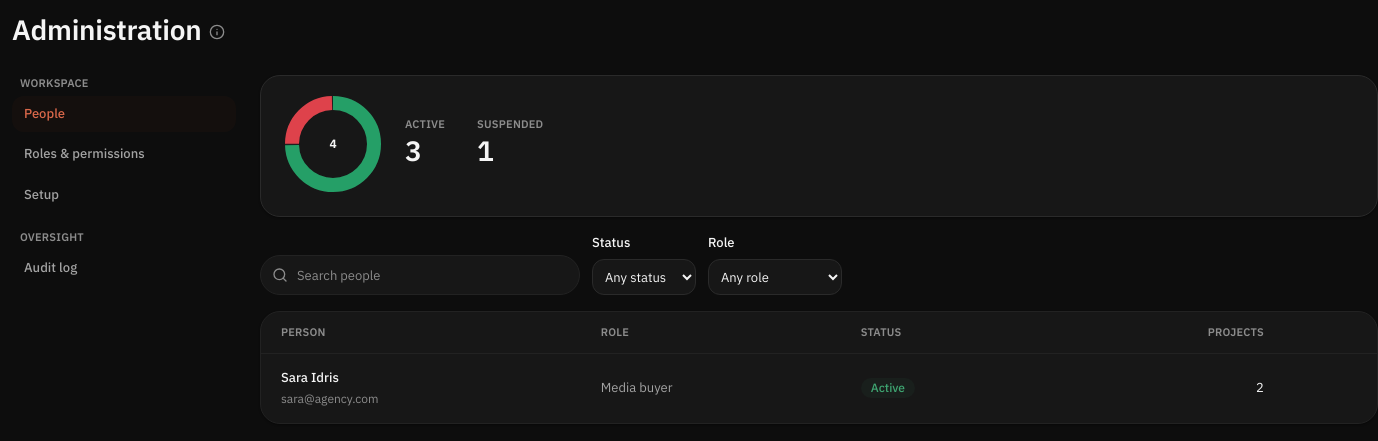
Scenario: AdministrationPage › shows the audit trail with its actor and marks security events
Click the button "Audit log": x=124, y=268 x1=12 y1=250 x2=236 y2=286
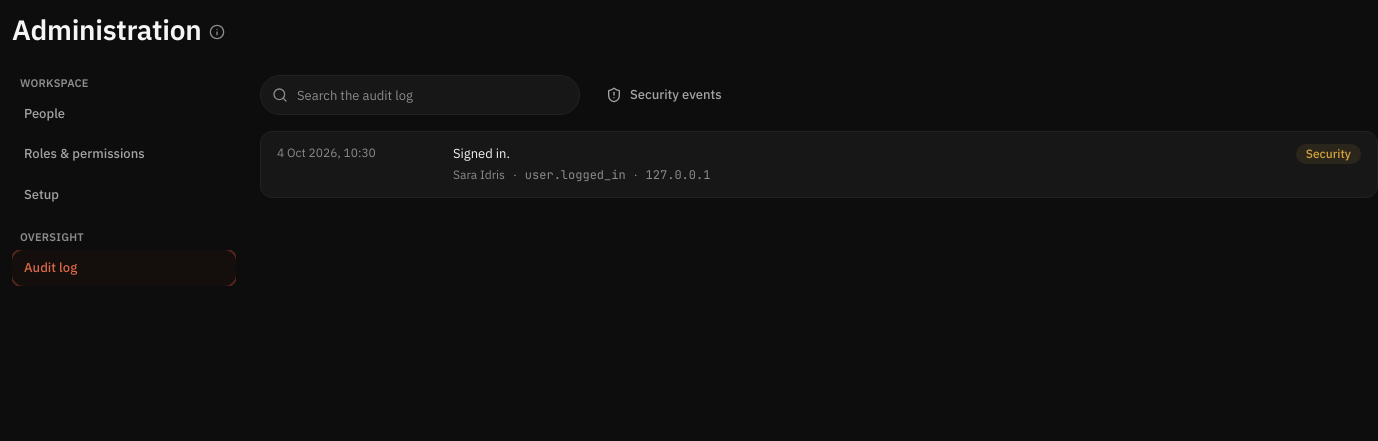
Expected: the text "Sara Idris" is shown, x1=453 y1=166 x2=505 y2=185
Result: the text "Signed in." is shown at x1=453 y1=144 x2=510 y2=163
Result: the text "Security" is shown at x1=1296 y1=144 x2=1361 y2=164
